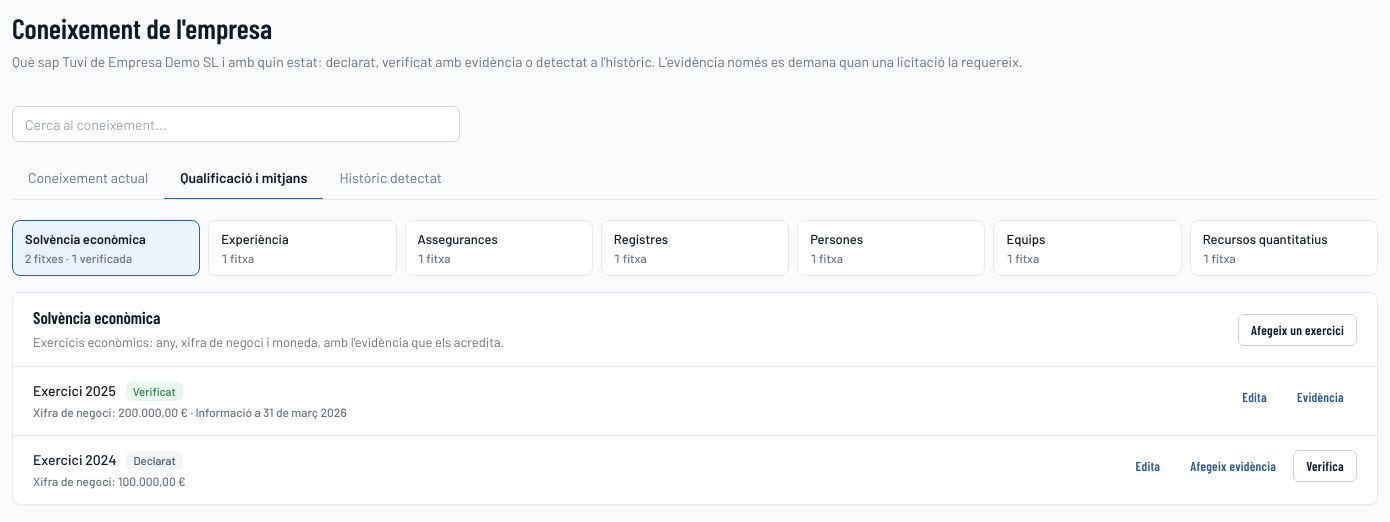
Qualificació i mitjans: estructura › canviar de secció la desa a la URL (?seccio=) sense tocar la pestanya
Expected: the navigation bar named "Seccions de qualificació i mitjans" is shown, [12,220,1378,276]
Click the button "Equips 1 fitxa".
click(1088, 248)  # box [993,220,1182,276]
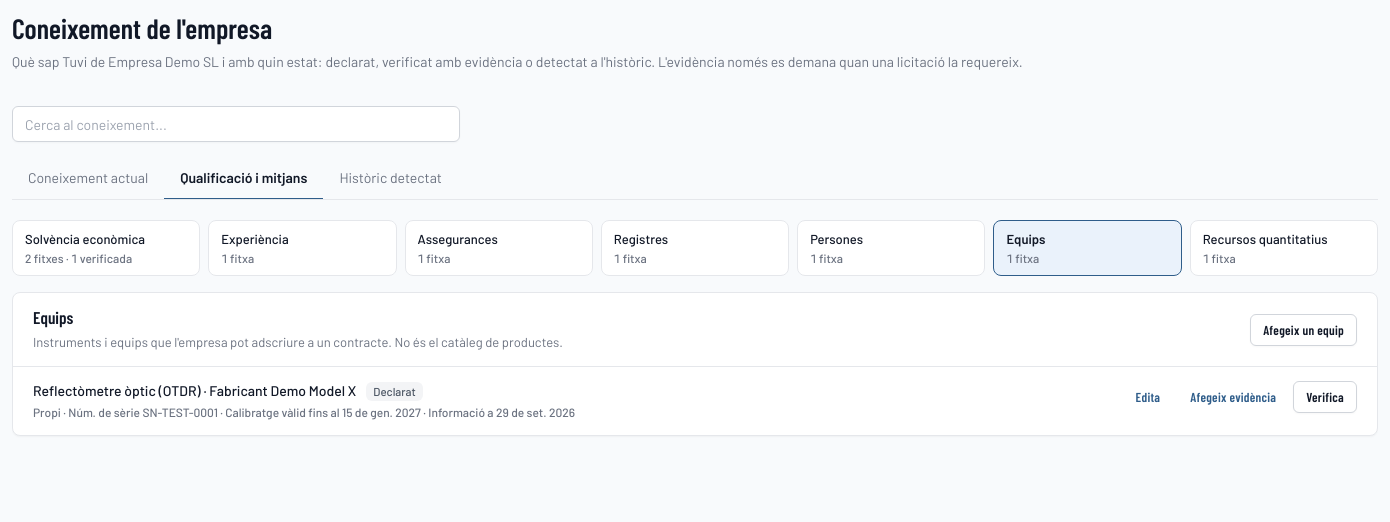
Expected: the heading "Equips" is shown, [33,307,73,327]
